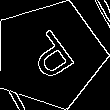P_SE: (18, 23, 81, 86)
